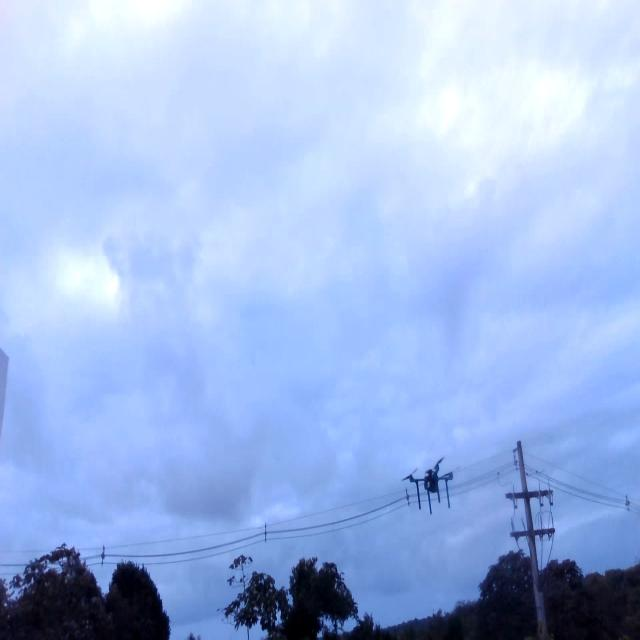-uav-: (399, 446, 459, 521)
